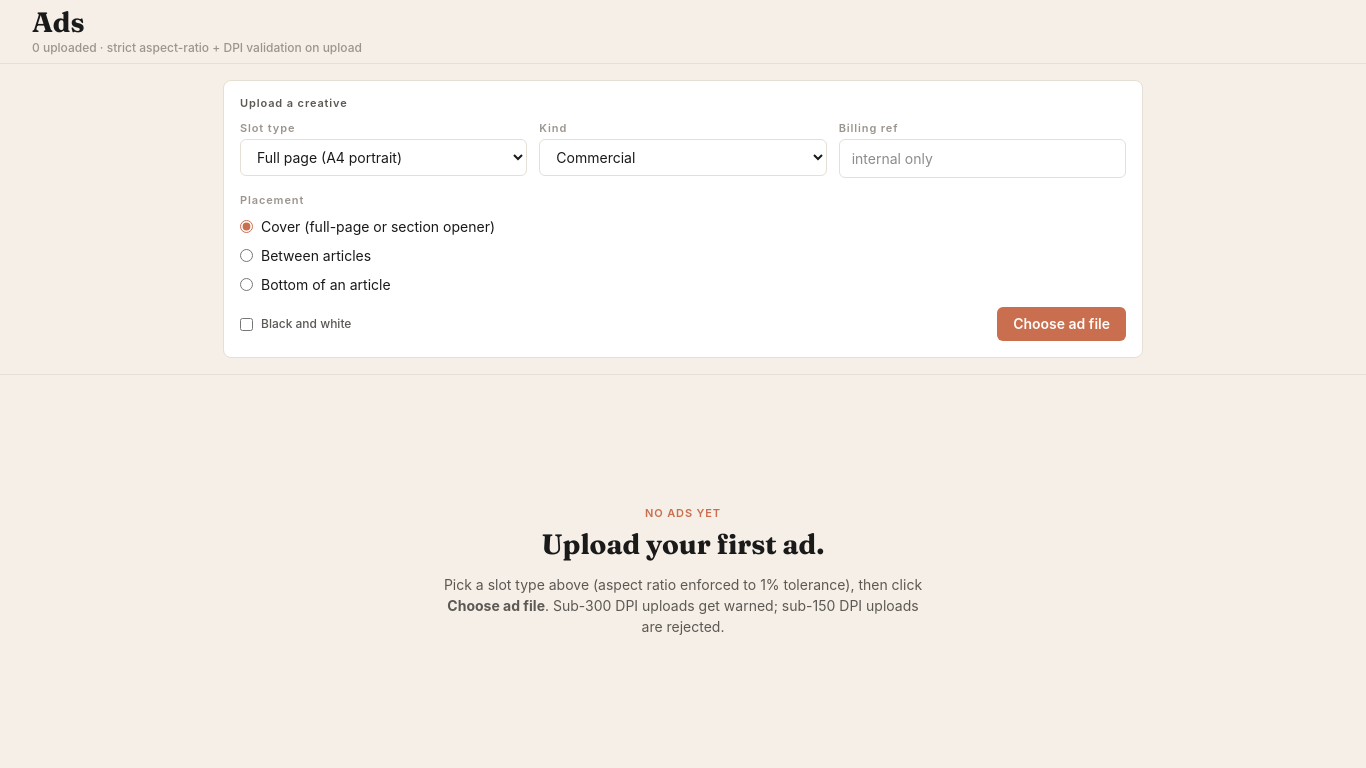
AdsScreen radio + article picker › switching back to Cover hides the picker and clears the article
Click the radio button with test id "ad-placement-between".
click(246, 255)  # box [240, 249, 253, 262]
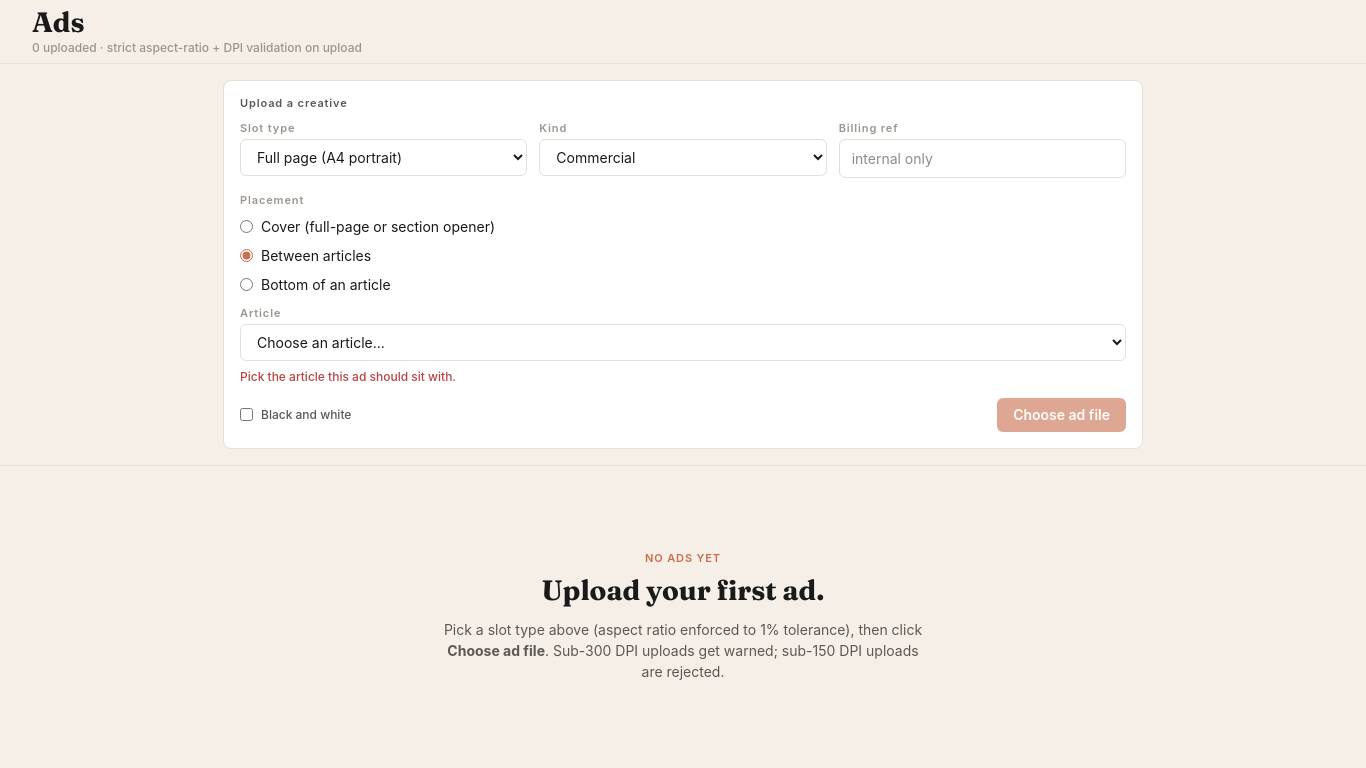
Select "Kabir on the bridge (after Kabir's piece)" in the dropdown with test id "ad-placement-article" at (683, 342), box [240, 324, 1126, 361]
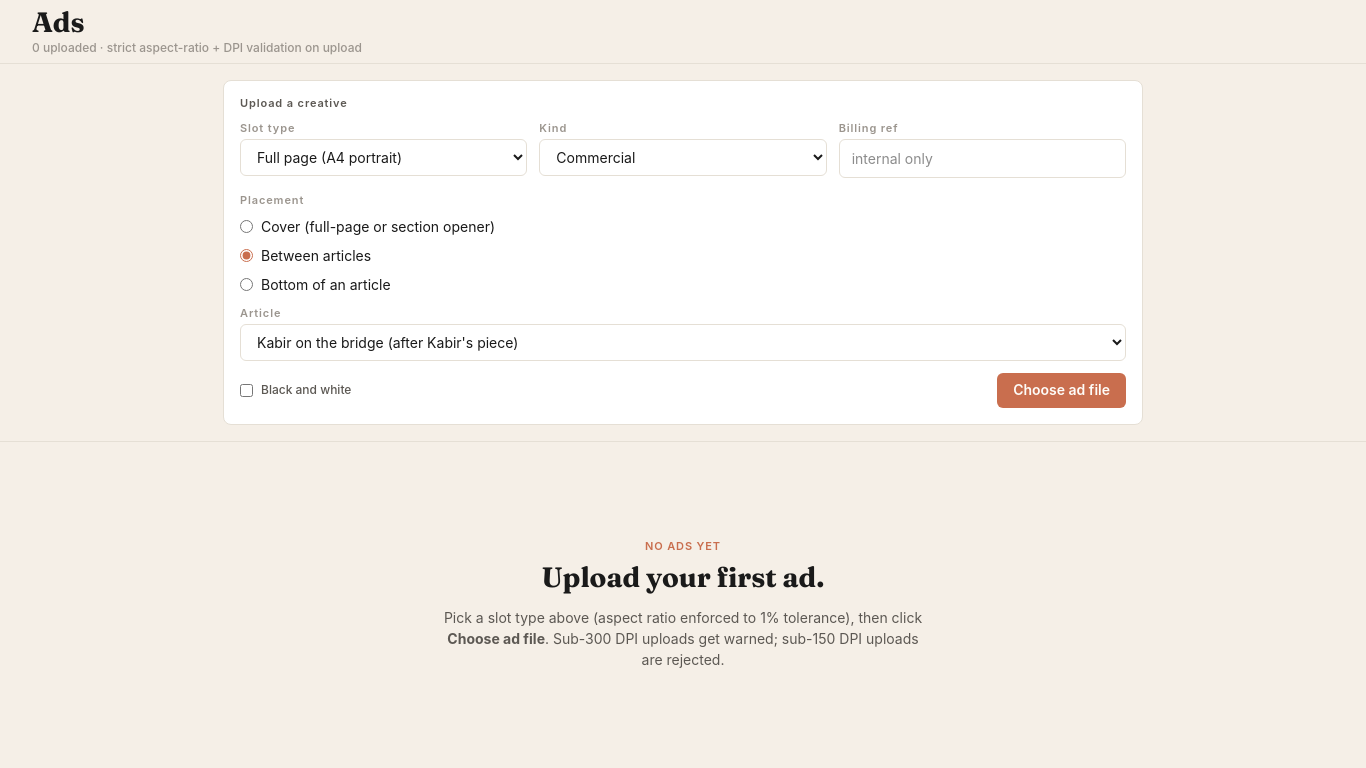
// Now flip back to cover.
Click the radio button with test id "ad-placement-cover".
click(246, 226)  # box [240, 220, 253, 233]
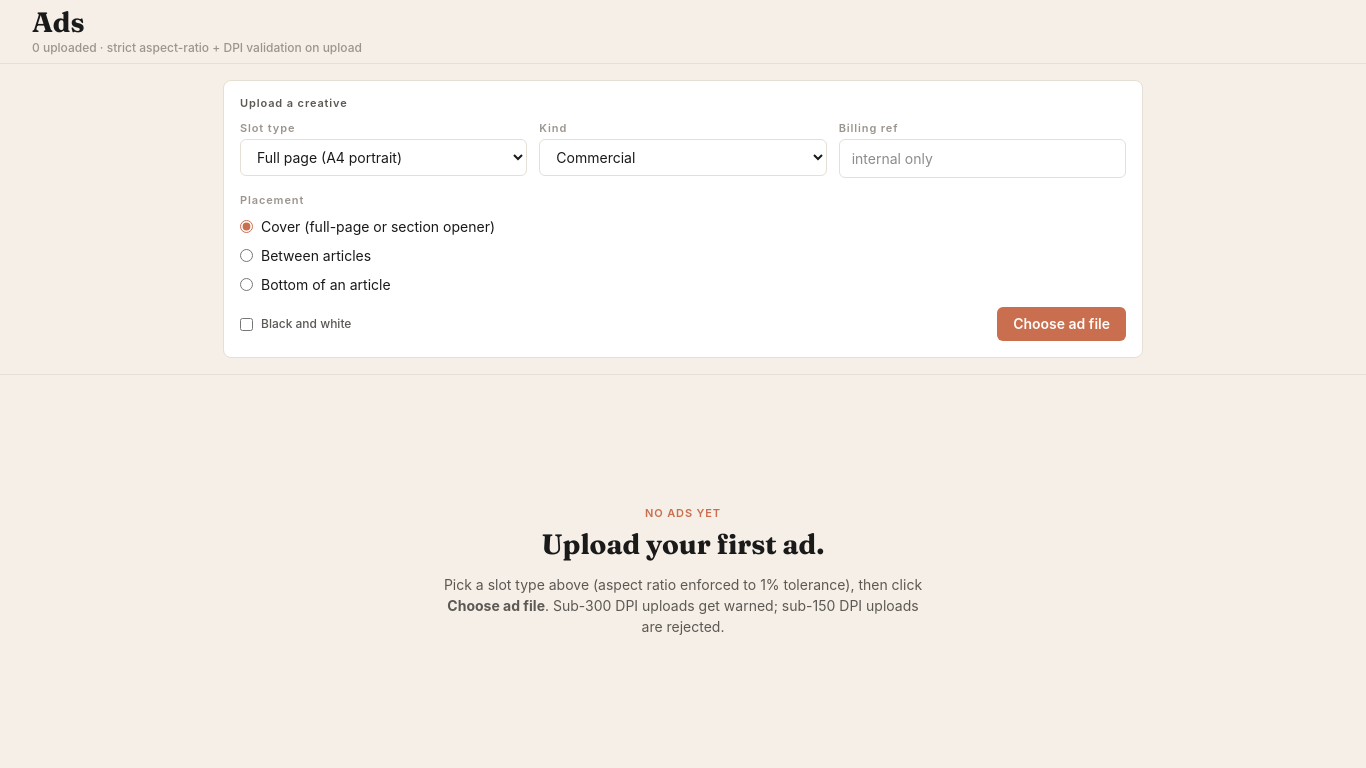
Now the dropdown with test id "ad-placement-article" is gone
